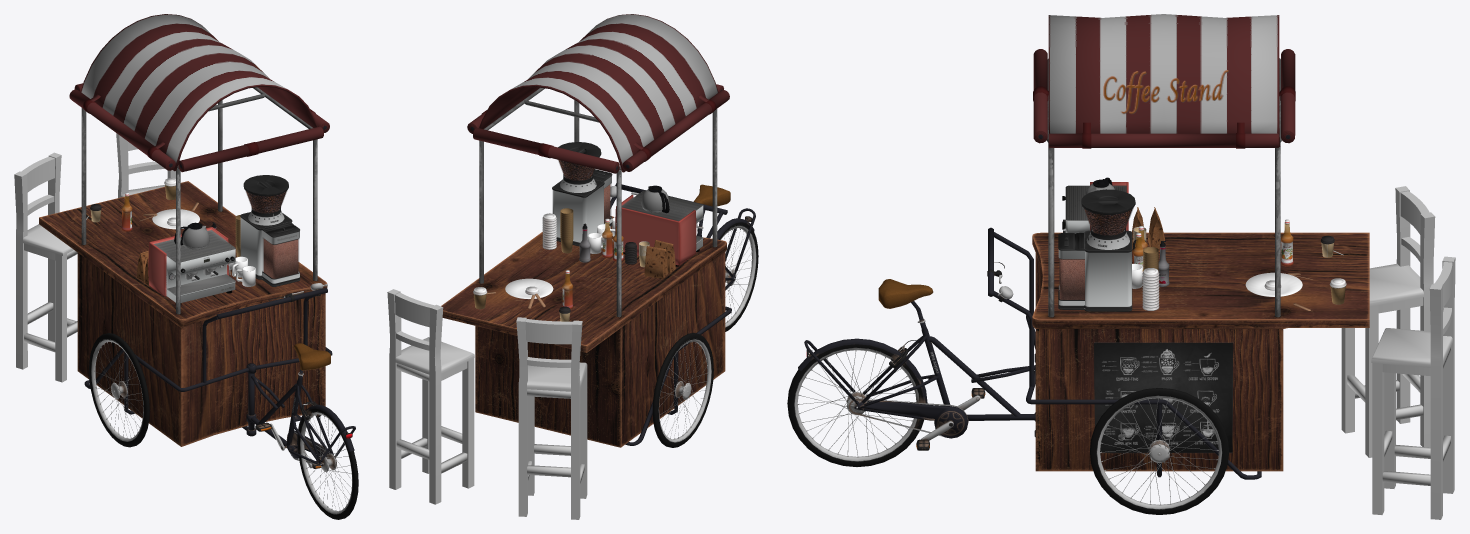
3 renders of one model, left to right at view 1: azimuth 30°, elevation 25°; view 2: azimuth 150°, elevation 25°; view 3: azimuth 270°, elevation 25°, orthographic. The views are drawn at different scales.
Parts seen in each view (by area): view 1: table_low, ceiling_low, chair_low.001, cloth-3_low, body-machine_low, tire.003_low, tire.001_low, coffee_low, grain_low, cylinder-2_low, cylinder-1_low, body_low.001 (+13 smaller); view 2: table_low, ceiling_low, chair_low, chair_low.001, cloth-3_low, body-machine_low, tire.003_low, body_low.001, cylinder-1_low, grain_low, tire.001_low, cylinder-2_low (+8 smaller); view 3: table_low, ceiling_low, chair_low, chair_low.001, cloth-3_low, tire.002_low, tire.001_low, body_low.001, grain_low, coffee_low, cover_low, frame.010_low (+10 smaller).
Part boxes in pixels (left/top/right/bottom): table_low: left=39, top=181, right=327, bottom=446; ceiling_low: left=80, top=14, right=317, bottom=171; chair_low.001: left=14, top=152, right=77, bottom=382; cloth-3_low: left=69, top=83, right=329, bottom=172; body-machine_low: left=148, top=227, right=235, bottom=296; tire.003_low: left=89, top=333, right=149, bottom=447; tire.001_low: left=297, top=408, right=358, bottom=519; coffee_low: left=262, top=222, right=300, bottom=286; grain_low: left=243, top=175, right=288, bottom=225; cylinder-2_low: left=176, top=139, right=317, bottom=314; cylinder-1_low: left=81, top=100, right=222, bottom=244; body_low.001: left=240, top=212, right=292, bottom=279; table_low: left=441, top=216, right=726, bottom=447; ceiling_low: left=479, top=14, right=718, bottom=172; chair_low: left=387, top=289, right=474, bottom=504; chair_low.001: left=516, top=317, right=587, bottom=519; cloth-3_low: left=467, top=84, right=729, bottom=173; body-machine_low: left=615, top=190, right=703, bottom=265; tire.003_low: left=652, top=333, right=713, bottom=447; body_low.001: left=552, top=179, right=604, bottom=246; cylinder-1_low: left=479, top=140, right=621, bottom=317; grain_low: left=558, top=142, right=601, bottom=192; tire.001_low: left=719, top=222, right=758, bottom=331; cylinder-2_low: left=574, top=100, right=717, bottom=247; table_low: left=1032, top=232, right=1369, bottom=471; ceiling_low: left=1048, top=14, right=1280, bottom=146; chair_low: left=1371, top=256, right=1455, bottom=519; chair_low.001: left=1341, top=186, right=1435, bottom=457; cloth-3_low: left=1033, top=49, right=1295, bottom=148; tire.002_low: left=1090, top=388, right=1229, bottom=514; tire.001_low: left=787, top=344, right=923, bottom=466; body_low.001: left=1084, top=230, right=1132, bottom=311; grain_low: left=1081, top=189, right=1135, bottom=249; coffee_low: left=1058, top=232, right=1084, bottom=309; cover_low: left=860, top=400, right=968, bottom=438; frame.010_low: left=1026, top=315, right=1261, bottom=479.
Bounding box in the file's own units: 2.07 × 4.05 × 5.53.
